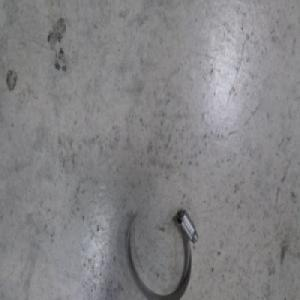AdjustableClamp: (125, 207, 199, 300)
